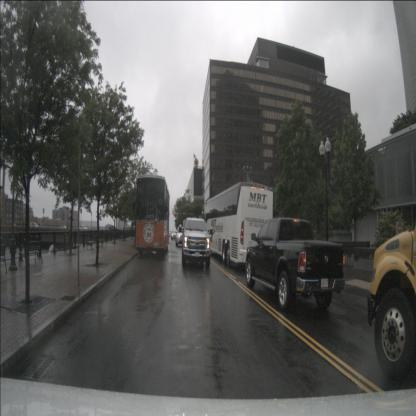vehicle-bus-rigid: (205, 180, 276, 270), (134, 174, 170, 256)
vehicle-car: (181, 217, 211, 270), (176, 226, 190, 246), (29, 221, 39, 230), (108, 226, 120, 233), (171, 229, 178, 240), (58, 224, 67, 232), (79, 224, 88, 232)
vehicle-truck: (245, 218, 345, 312)
